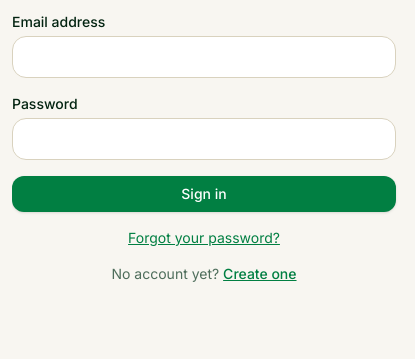
EmailPasswordForm › when it fails › shows the server message in an alert
Type "citizen@example.com" into the field labelled "Email address" at (204, 57), box [12,36,396,78]
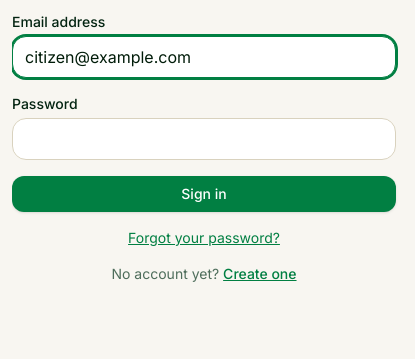
Type "correct horse battery staple" into the password field labelled "Password" at (204, 139), box [12,118,396,160]
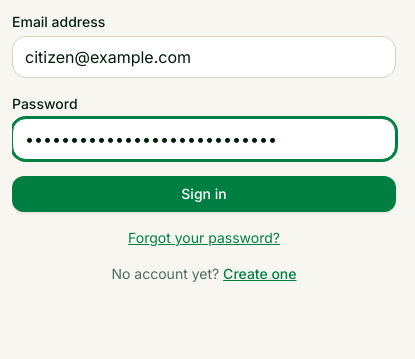
Click the button "Sign in" at (204, 194), box [12,176,396,212]
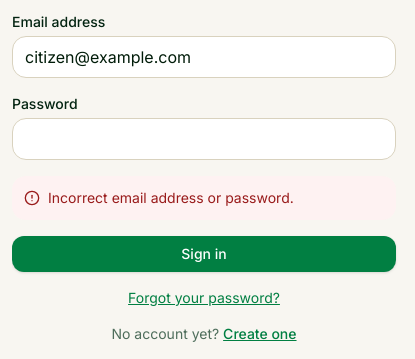
Expected: the message reads "Incorrect email address or password.", [48,189,294,206]
